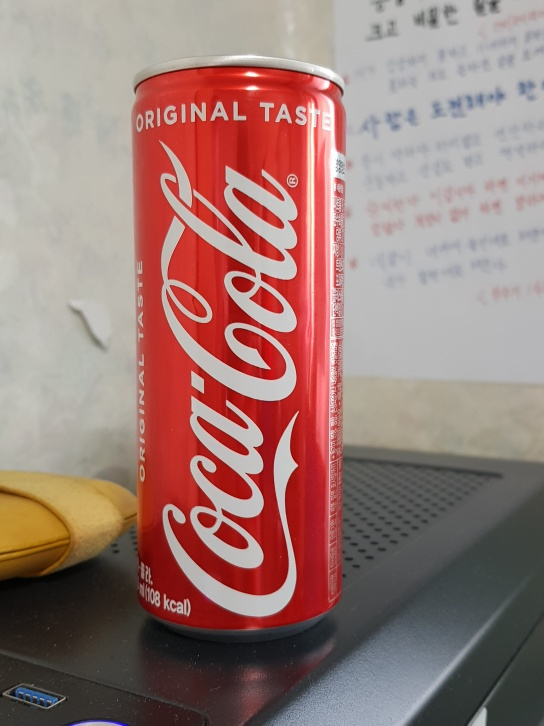Can: (129, 53, 342, 643)
